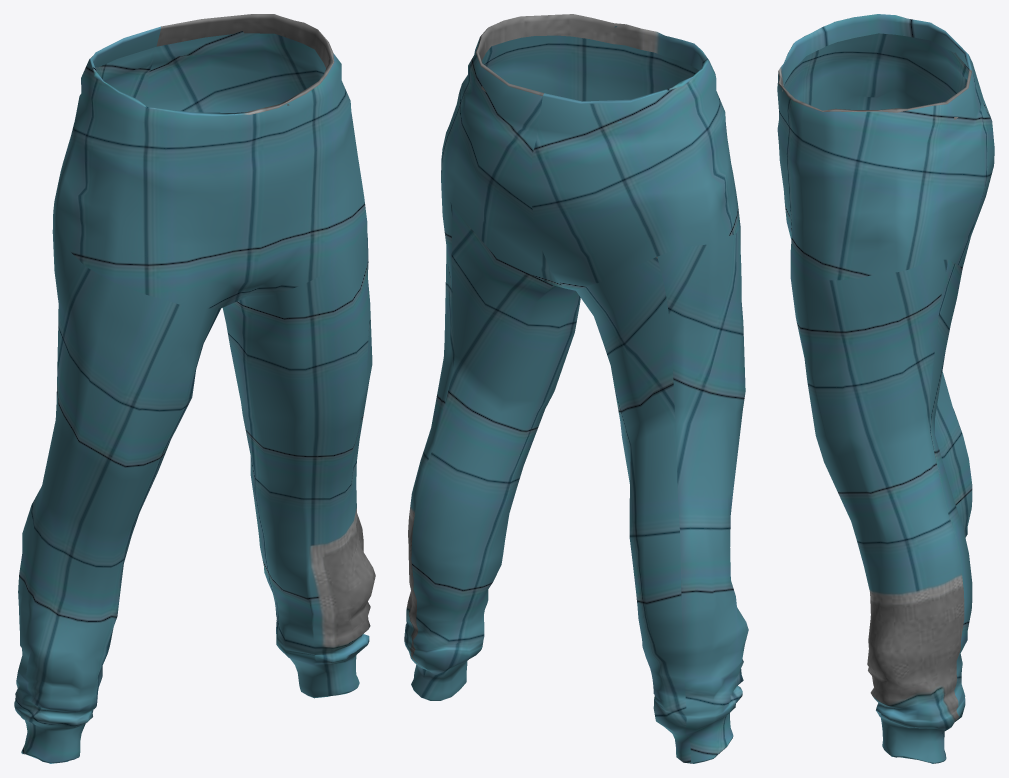
3 views of the same model, side by side, from view 1: azimuth 30°, elevation 25°; view 2: azimuth 150°, elevation 25°; view 3: azimuth 270°, elevation 25° (orthographic). The views are drawn at different scales.
Parts seen in each view (by area): view 1: SM_PantsLo1:Joggers_Lo; view 2: SM_PantsLo1:Joggers_Lo; view 3: SM_PantsLo1:Joggers_Lo.
Boxes of the visible parts, x1,y1,x2,y2 form: SM_PantsLo1:Joggers_Lo: (14, 14, 375, 763); SM_PantsLo1:Joggers_Lo: (404, 14, 748, 763); SM_PantsLo1:Joggers_Lo: (777, 14, 994, 763).
Bounding box in the file's own units: 2.24 × 4.31 × 1.33.
